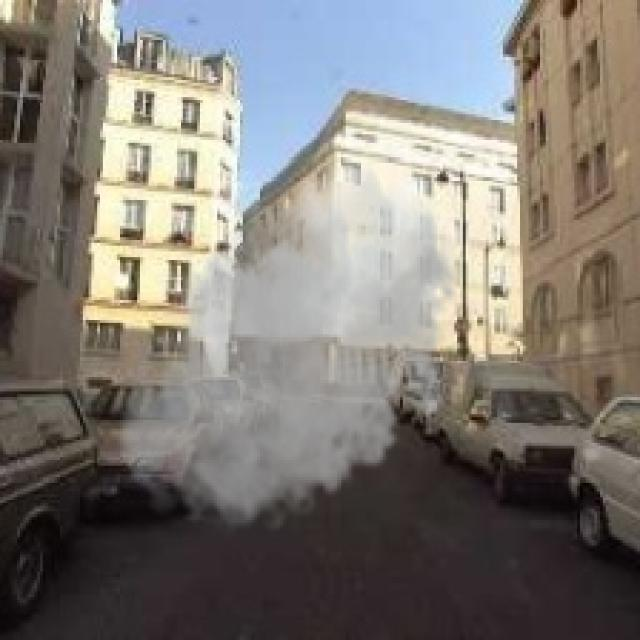smoke: (111, 151, 468, 543)
